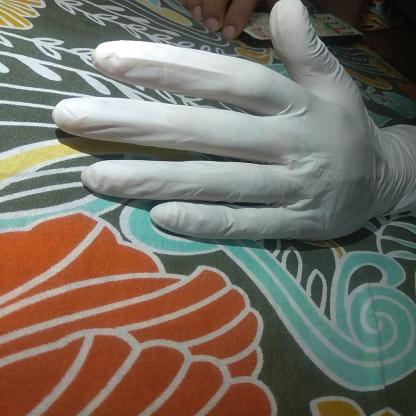gloved_hand: (46, 0, 414, 248)
